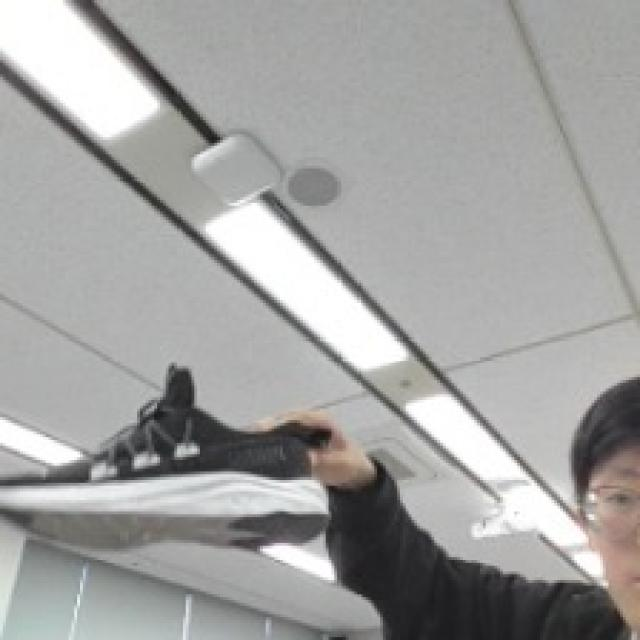shoe: (0, 364, 335, 548)
